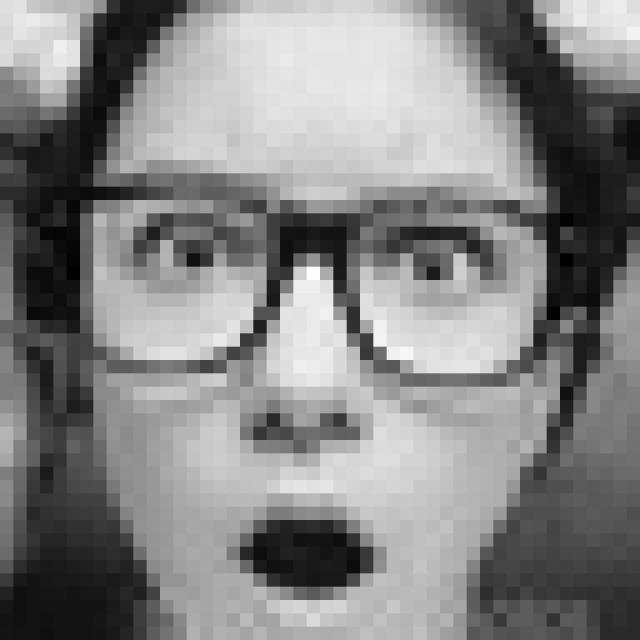surprise: (98, 172, 547, 640)
